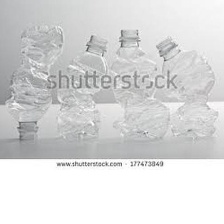bottle: (107, 20, 171, 143), (3, 22, 65, 145), (155, 30, 221, 140), (53, 27, 112, 143)
